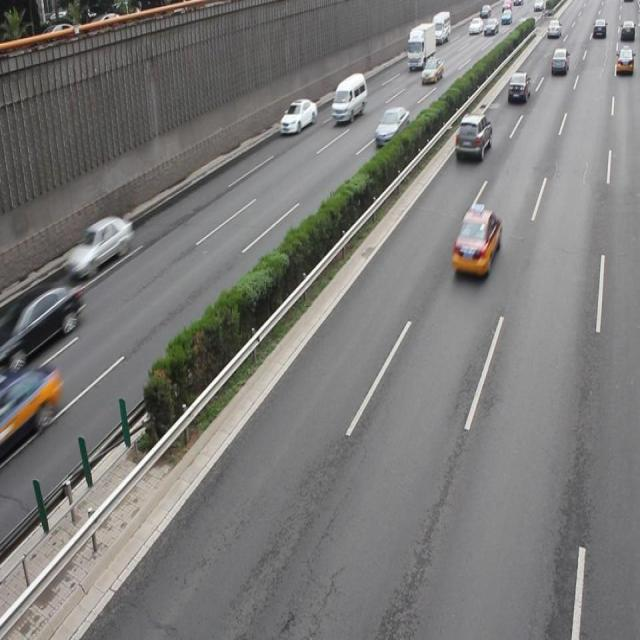car: (1, 278, 80, 368), (65, 214, 134, 281), (450, 207, 500, 279), (453, 110, 491, 160), (278, 97, 317, 134), (373, 105, 408, 146)
truck: (331, 71, 366, 125)
